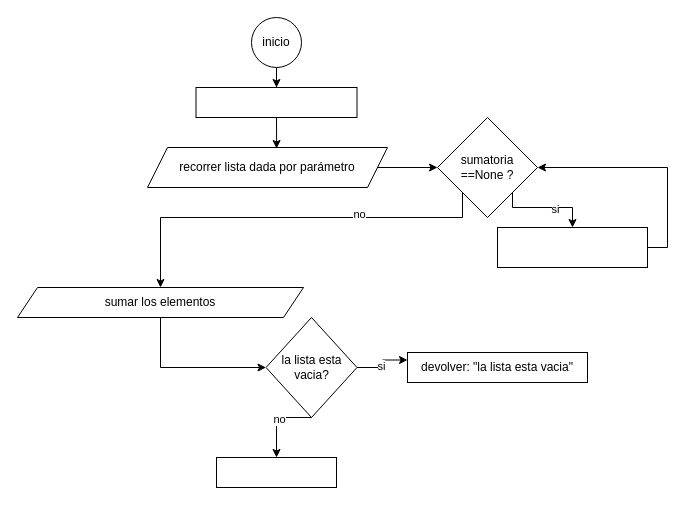
The diagram is 693 pixels wide and 505 high, and some of its shapes have lost their labels. The shapes that lost their labels are listed below. From the top down, each one's centre as x and y in pixels, then its label:
(276,102): sumatoria = None
(572,247): sumatoria = numero
(276,472): devolver sumatoria
